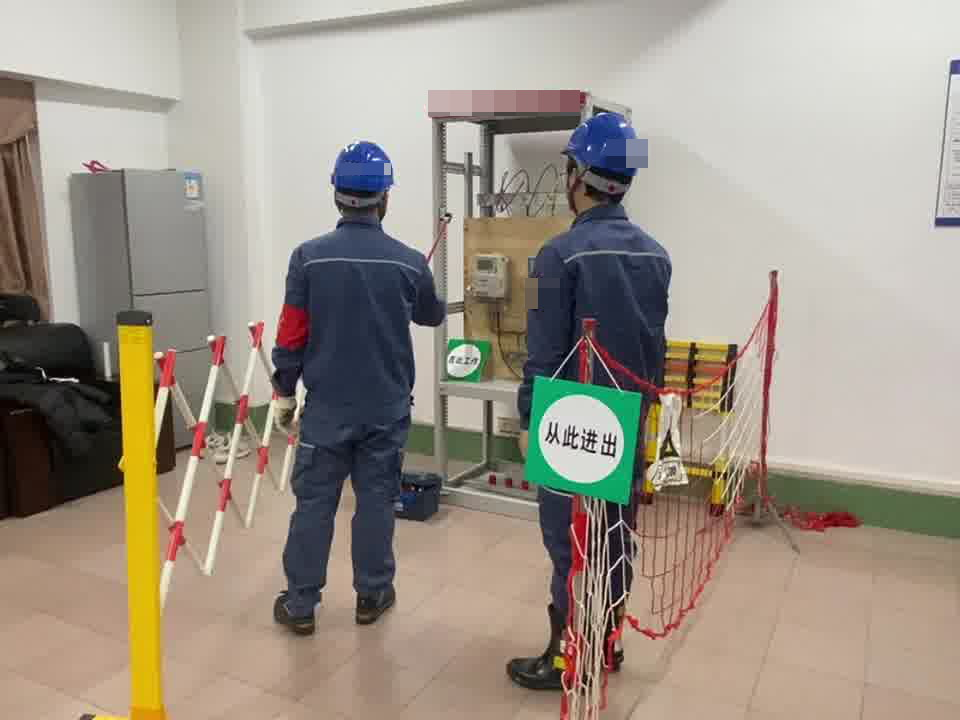badge: (275, 304, 312, 350)
downsuit: (280, 437, 405, 604), (538, 476, 640, 612)
glove: (269, 398, 299, 432)
halt: (561, 111, 642, 199), (329, 140, 398, 216)
inear: (560, 163, 592, 197)
intosign: (525, 373, 638, 504)
person: (506, 107, 681, 691), (265, 138, 450, 636)
shoe: (509, 602, 588, 686), (589, 603, 627, 670)
testrod: (423, 218, 448, 261)
upsuit: (269, 218, 448, 423), (525, 208, 674, 387)
worksign: (437, 337, 488, 384)
